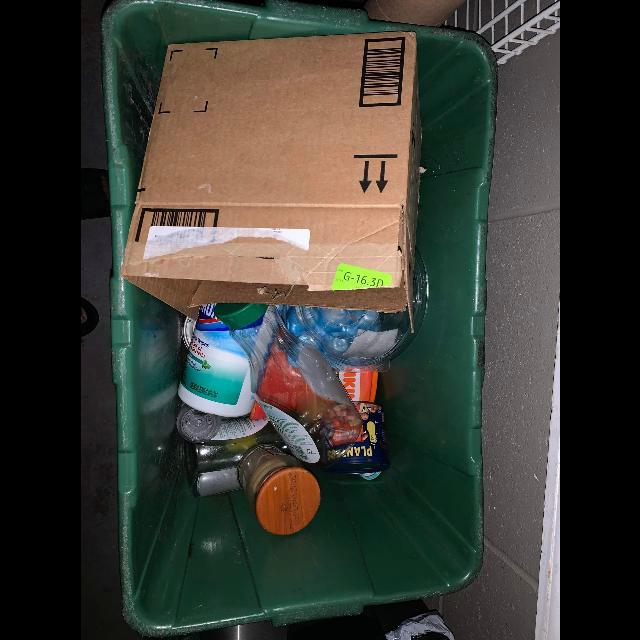cardboard: (119, 32, 421, 320)
glass_bottle: (236, 444, 320, 536)
plastic_bottle: (214, 303, 363, 468)
plastic_container: (177, 304, 255, 418)
